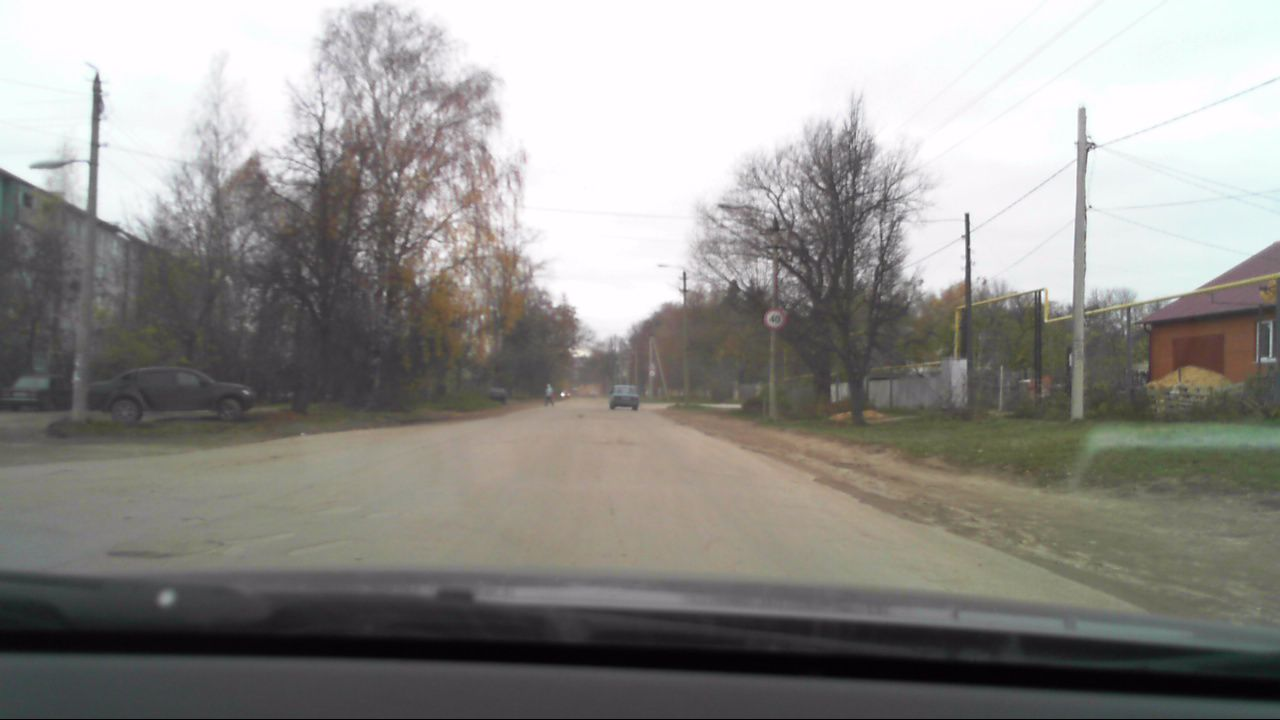speed_warning_40: (763, 307, 787, 330)
